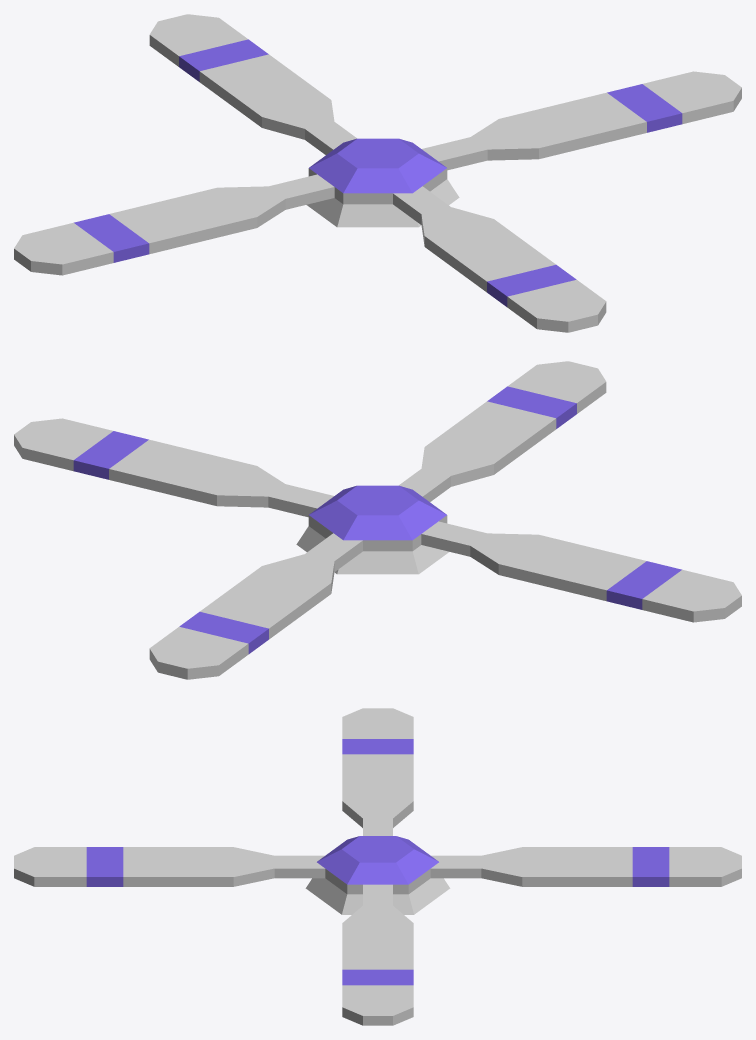
File: Propeller.glb
3 renders of one model, top to bottom at view 1: azimuth 30°, elevation 25°; view 2: azimuth 150°, elevation 25°; view 3: azimuth 270°, elevation 25°, orthographic. The views are drawn at different scales.
Visible parts, largest first — view 1: propeller_quad; view 2: propeller_quad; view 3: propeller_quad.
Boxes of the visible parts, left/top/right/bottom form: propeller_quad: left=14, top=14, right=741, bottom=332; propeller_quad: left=14, top=361, right=741, bottom=679; propeller_quad: left=14, top=708, right=741, bottom=1025.
Size of the model in its own units: 2 by 0.1186 by 2.
